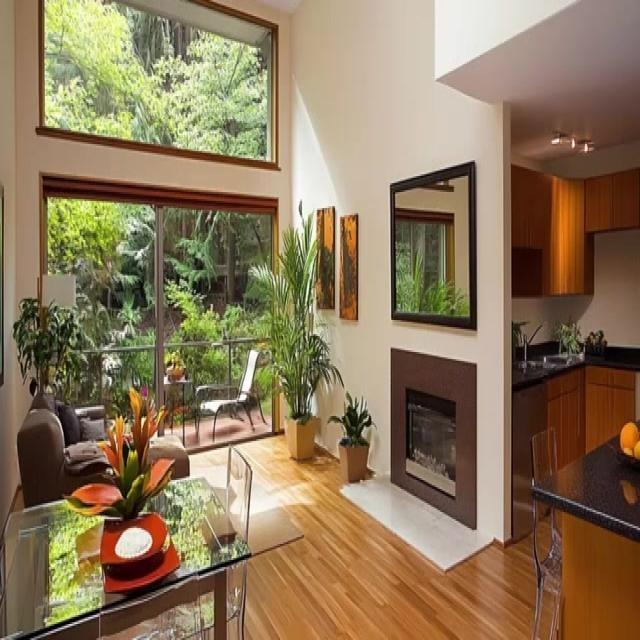obstacle: (0, 470, 252, 638), (16, 389, 190, 508)
